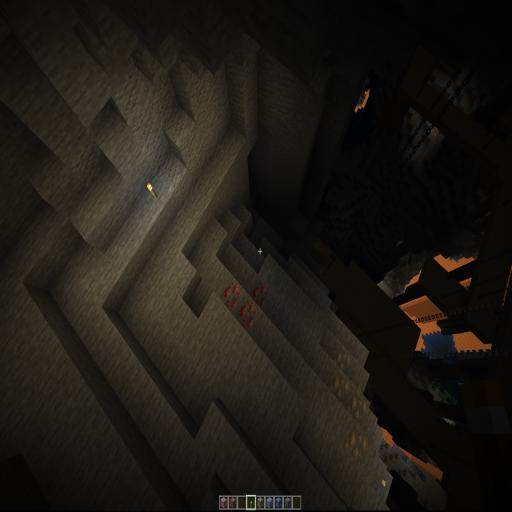iron ore: (332, 343, 373, 466)
redstone ore: (222, 278, 268, 337)
